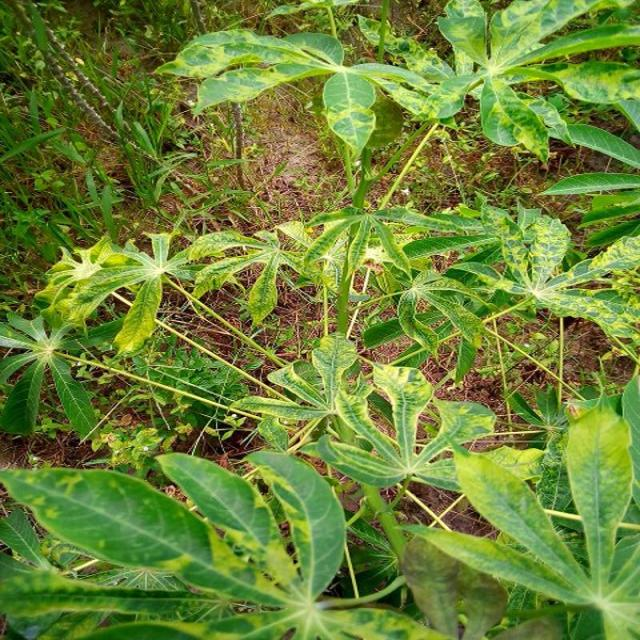cassava leaf: (2, 465, 216, 576), (322, 69, 378, 159)
